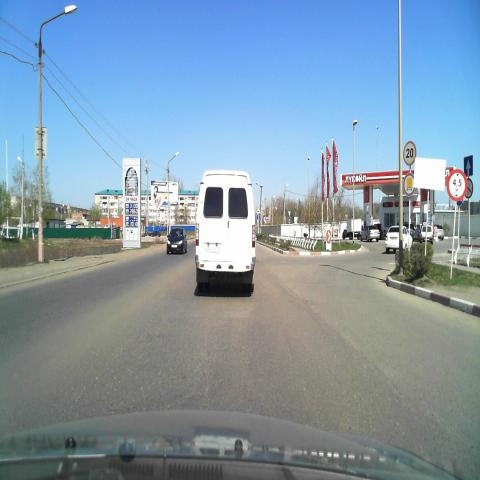3_13: (446, 168, 466, 202)
3_32: (402, 170, 416, 198)
5_5: (463, 155, 473, 176)
